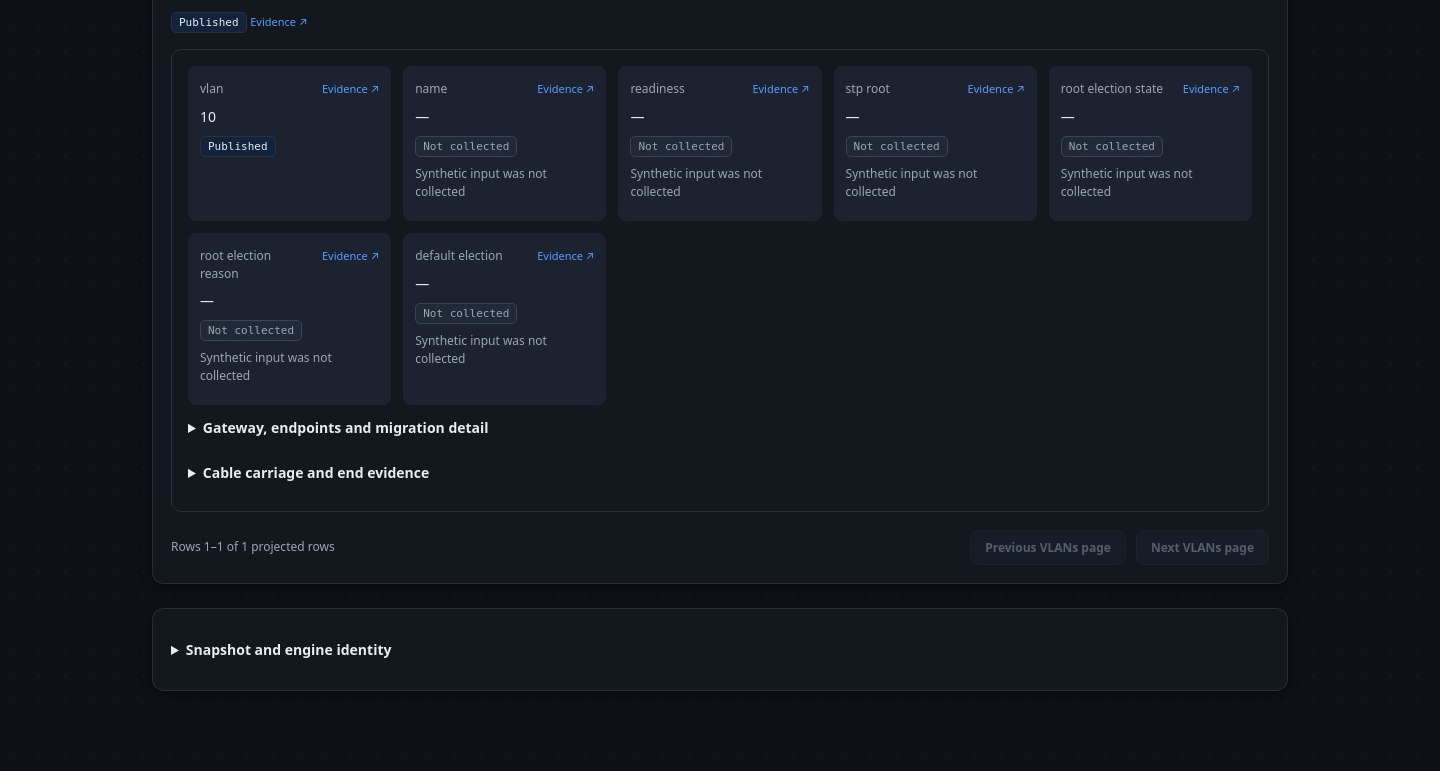
Test case: Core snapshot route › discloses an unsupported cable page without a clean empty result or a next-cursor loop
This screenshot has width=1440, height=771.
(page scrolled)
Click the heading "Cable carriage and end evidence" at (316, 472), box 203,462 -> 429,482
(page scrolled)
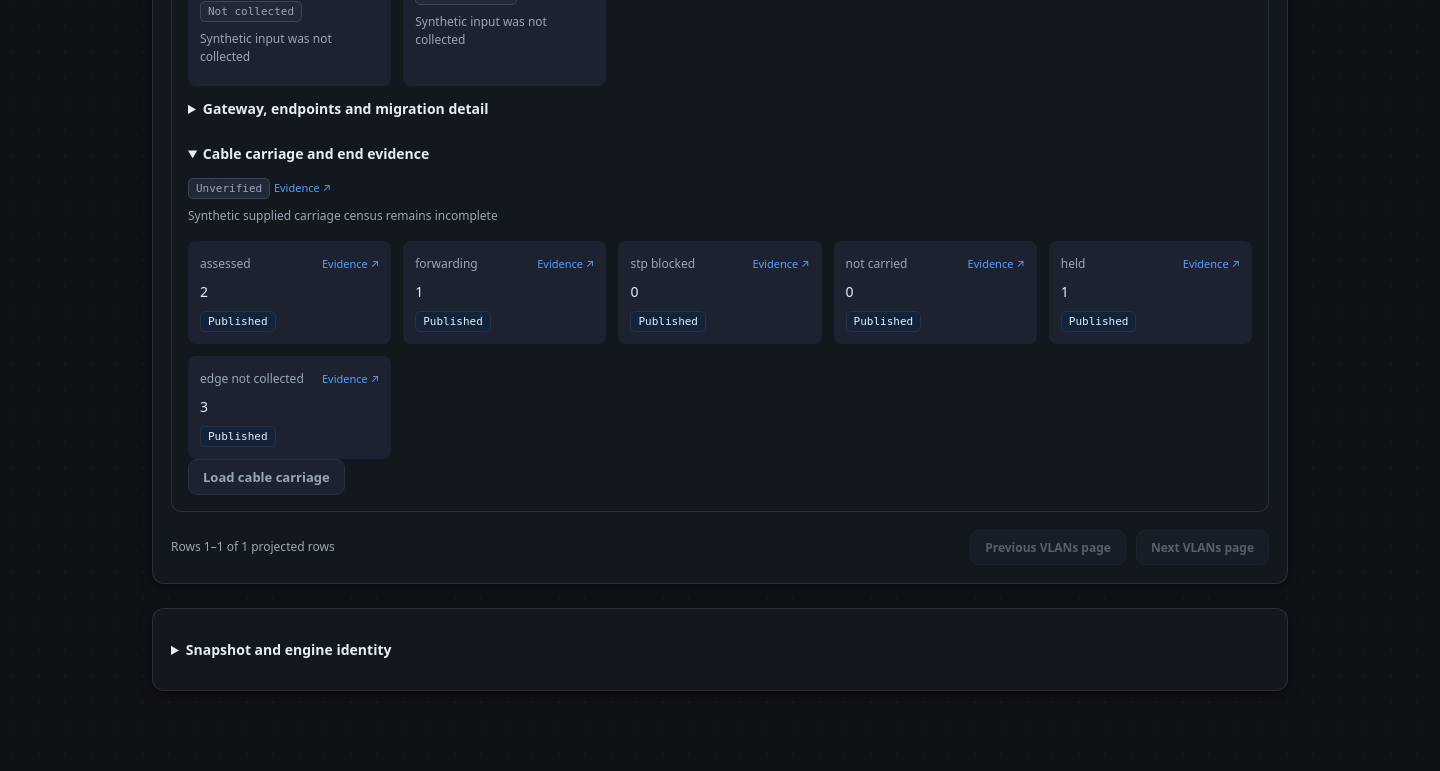
Click the button "Load cable carriage" at (266, 476), box 188,458 -> 345,494
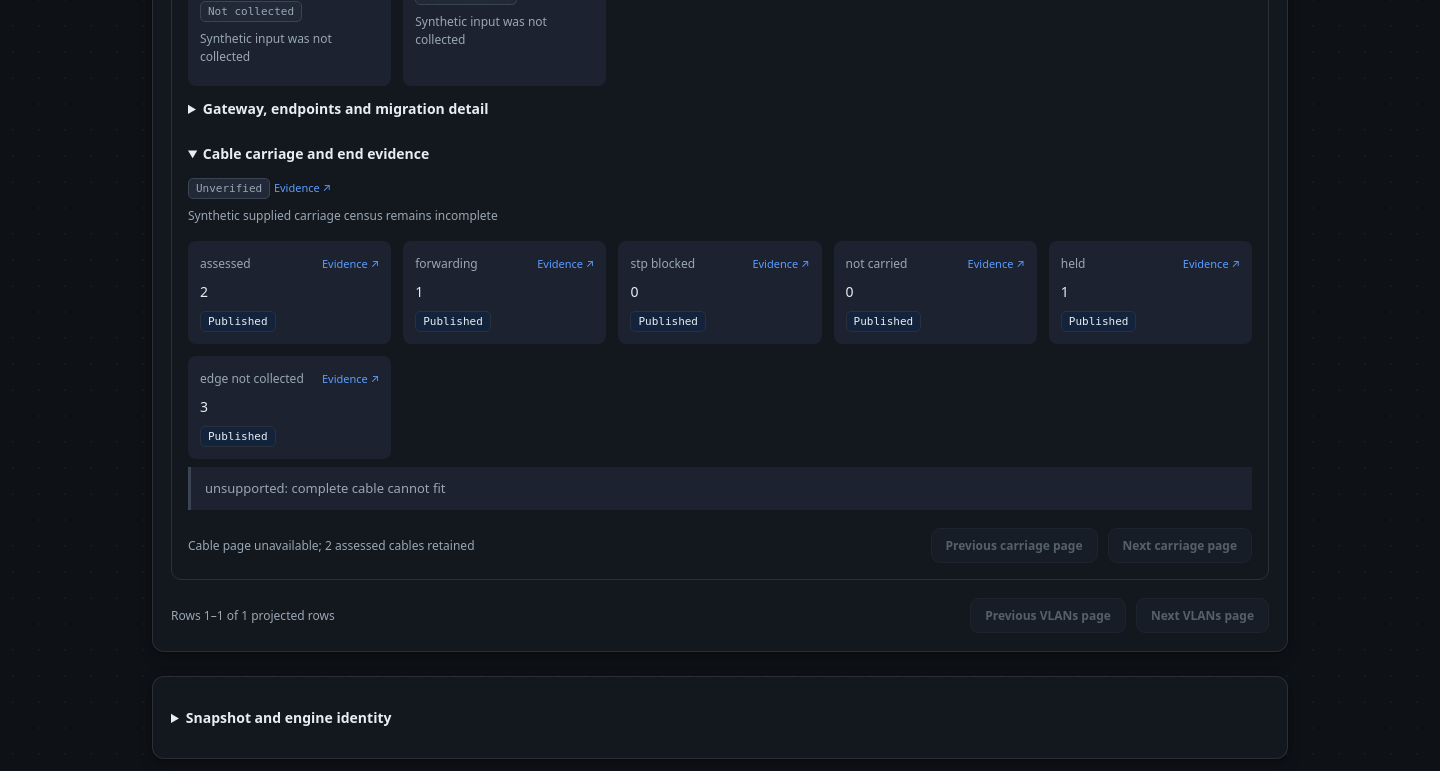
expect the message reads "unsupported: complete cable cannot fit": met, box 205,478 -> 445,496
expect the text "Cable page unavailable; 2 assessed cables retained" is shown: met, box 188,536 -> 474,554
expect the button "Next carriage page" is disabled: met, box 1108,528 -> 1252,563
